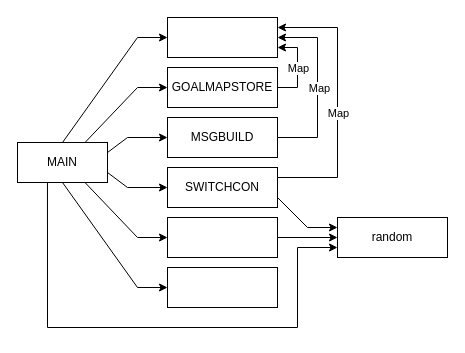
This 465x353 diagram has some shape labels left out. Each missing label, with the box of its shape:
ERR: (166, 266, 278, 308)
HW: (166, 216, 278, 258)
MAPFUNC: (166, 16, 278, 58)
